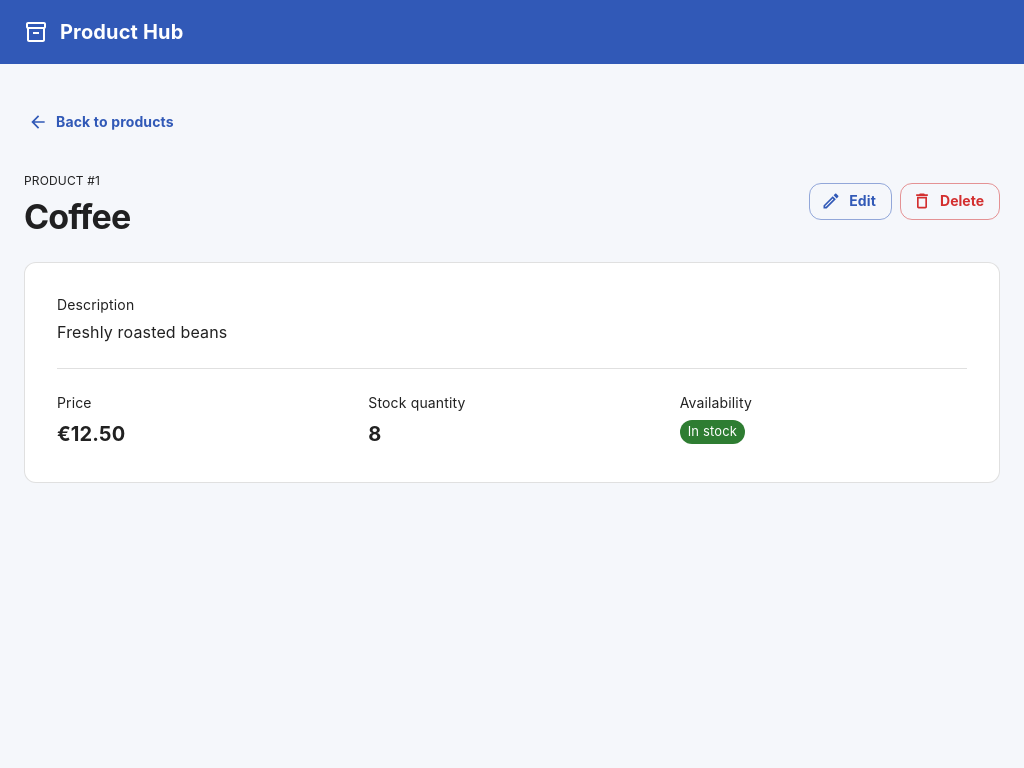
Test case: product mutations › keeps the confirmation dialog open when deletion fails
expect the heading "Coffee" is shown: met, box [24,196,130,238]
Click the button "Delete": (950,201) [900,183,1000,220]
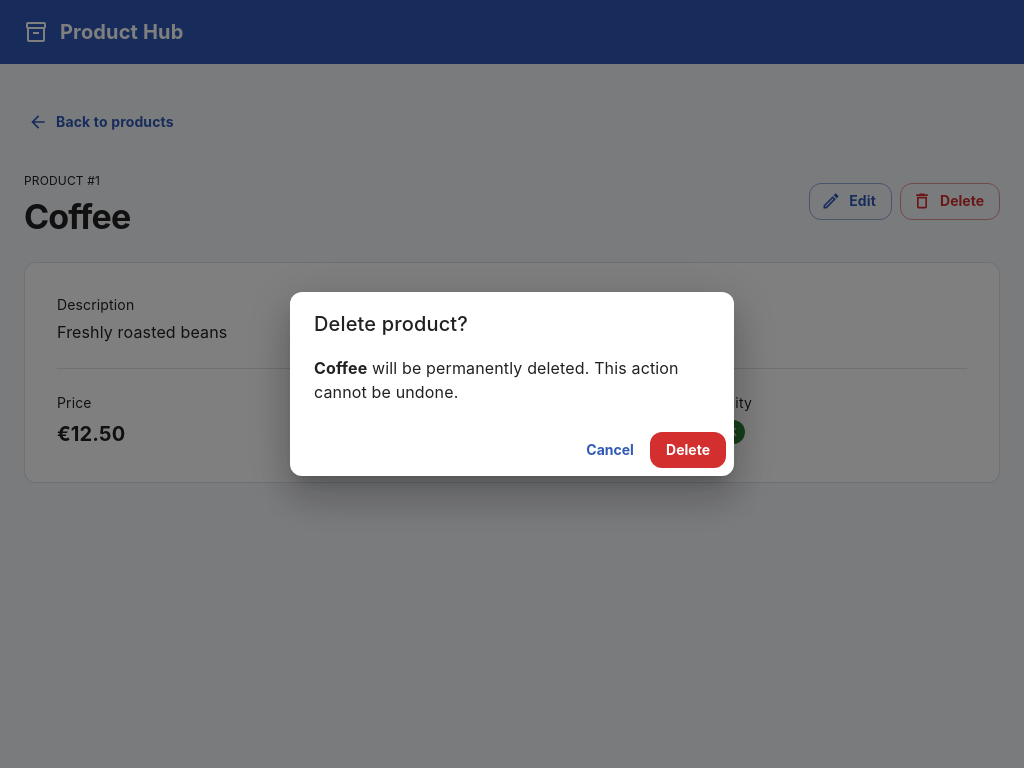
Click the button "Delete": (688,450) [650,432,726,468]
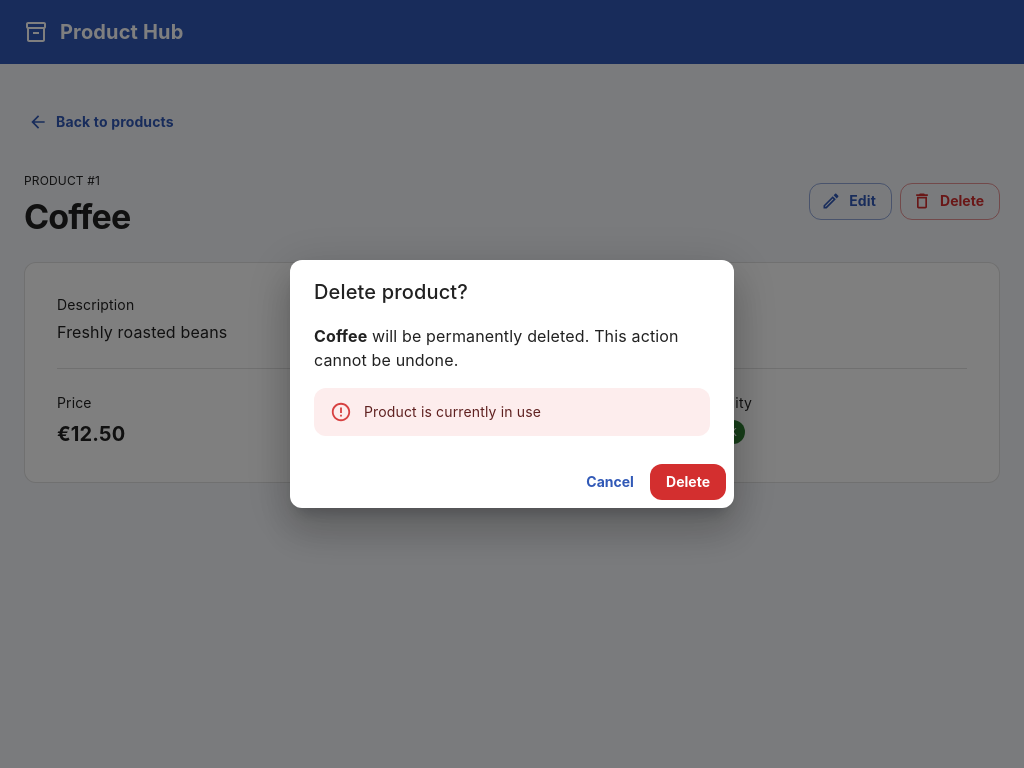
expect the dialog "Delete product?" is shown: met, box [290,260,734,508]
expect the text "Product is currently in use" is shown: met, box [364,403,541,420]
